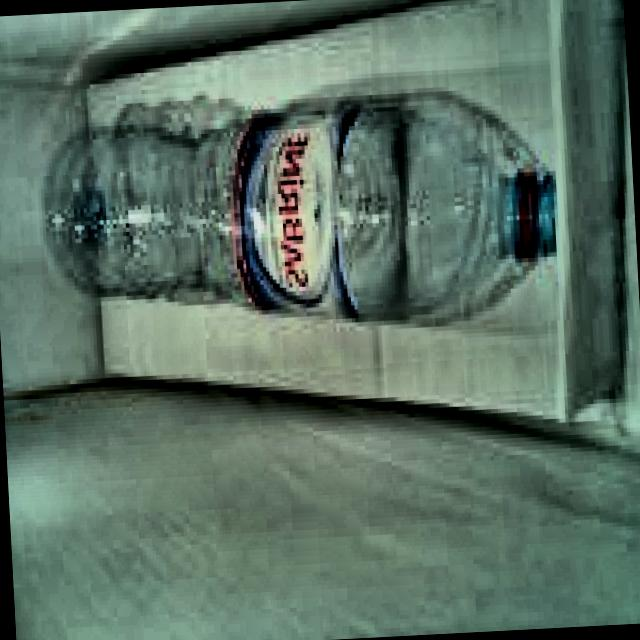plastic bottle: (50, 104, 556, 318)
